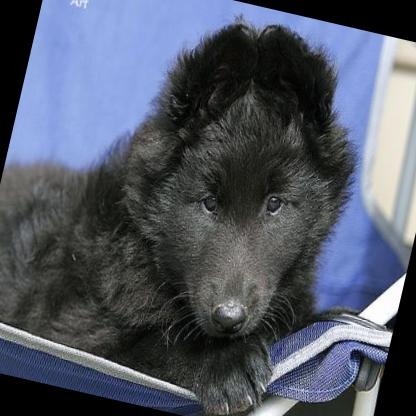groenendael: (0, 0, 389, 416)
